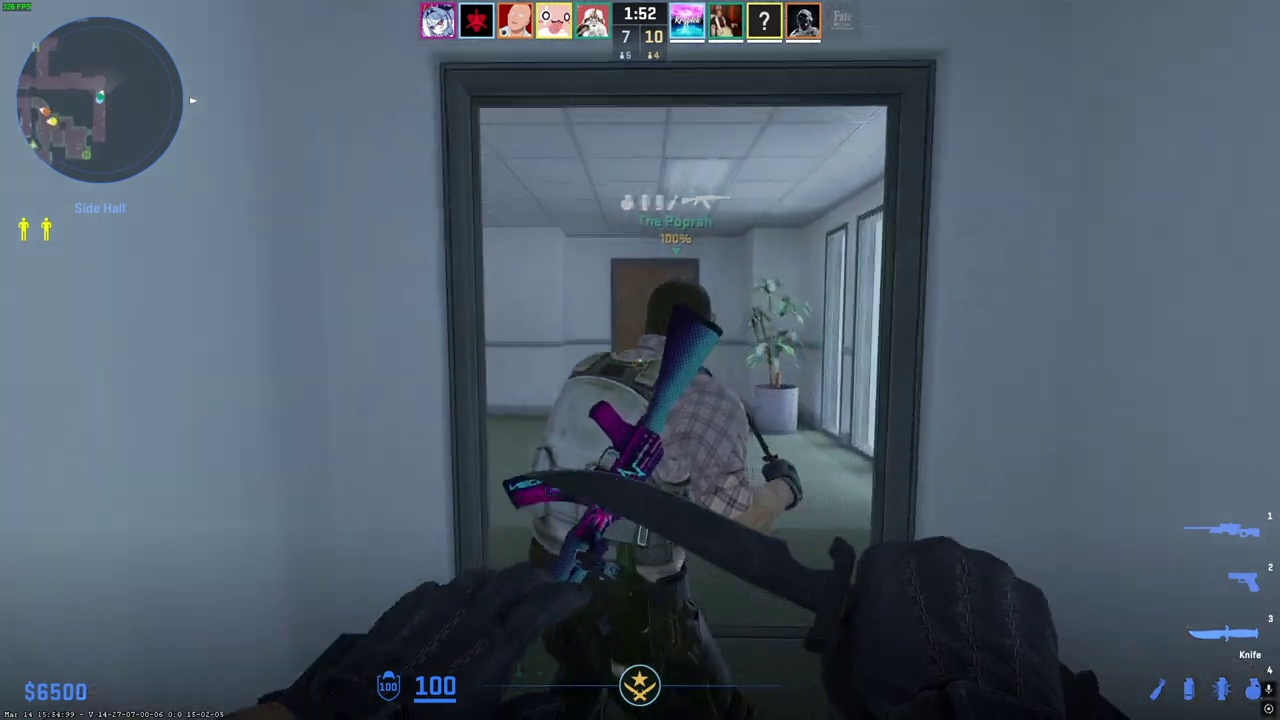Terrorist: (528, 279, 777, 720)
